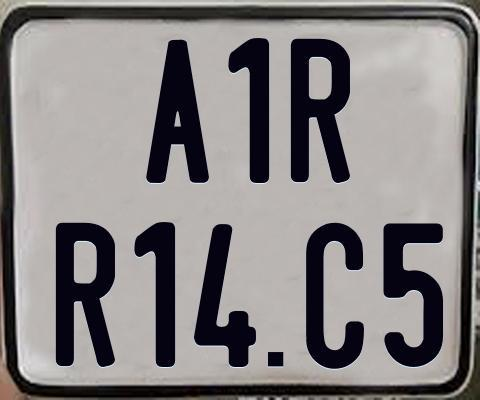1: (131, 219, 175, 365), (227, 38, 269, 183)
4: (192, 222, 255, 365)
5: (381, 222, 446, 369)
A: (145, 39, 214, 187)
C: (306, 223, 369, 371)
R: (291, 39, 351, 186), (55, 222, 114, 370)
